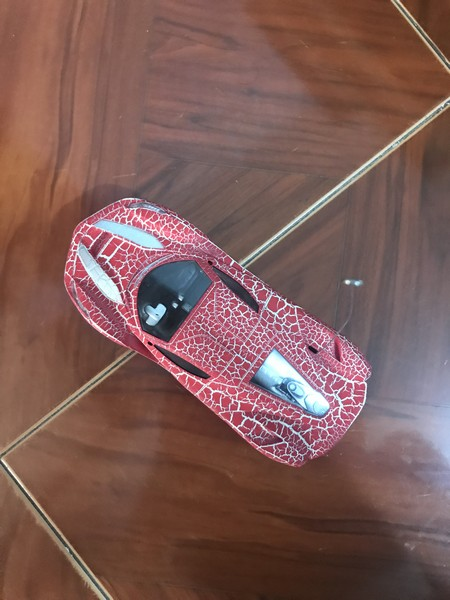RC: (61, 193, 372, 475)
